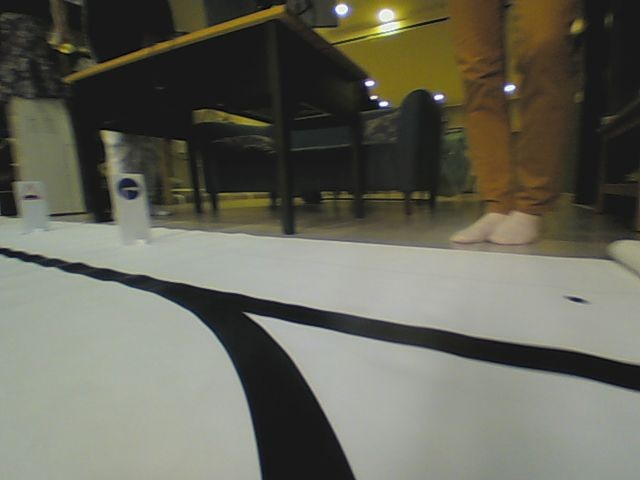Right: (116, 177, 141, 200)
